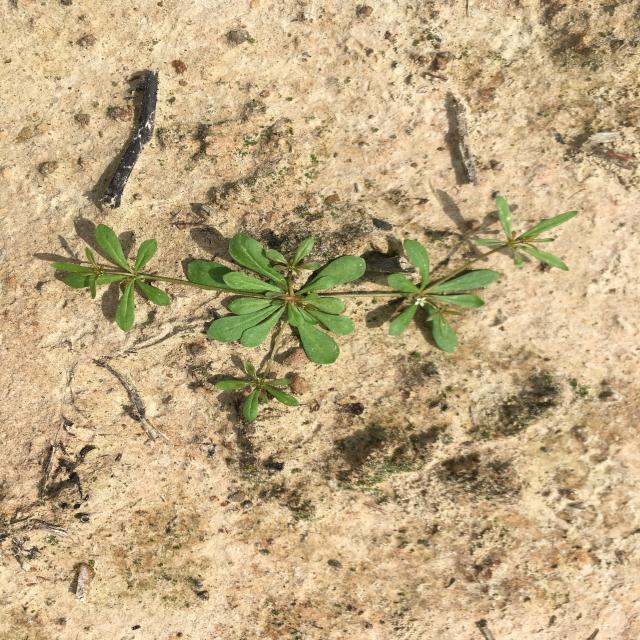Carpetweed: (50, 173, 579, 422)
